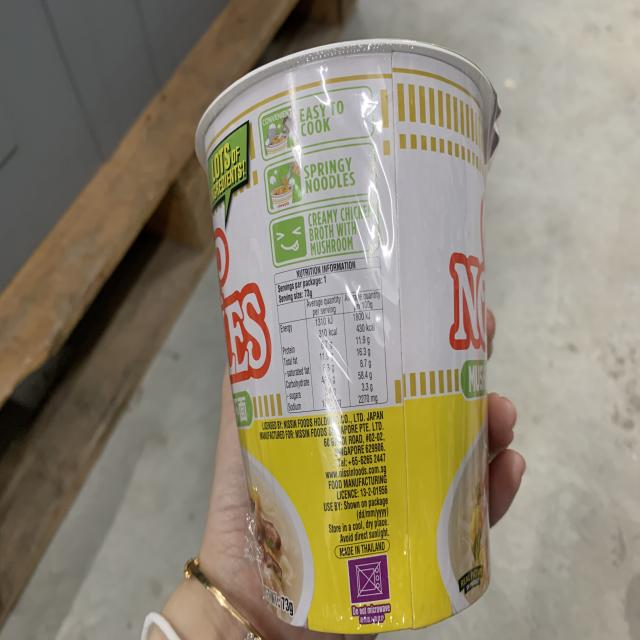object_name: (204, 54, 489, 626)
